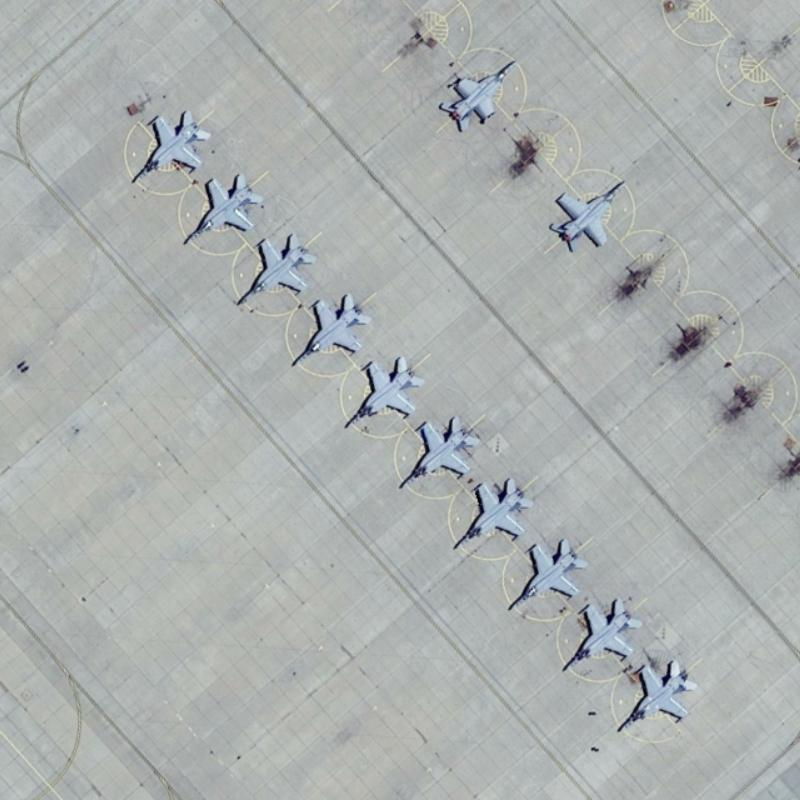A16: (286, 284, 377, 374), (608, 654, 702, 737), (221, 231, 320, 309), (555, 592, 644, 678), (336, 349, 430, 430), (436, 53, 525, 138), (172, 168, 268, 246), (125, 105, 214, 187), (502, 533, 592, 614), (393, 413, 481, 493), (447, 473, 534, 552), (542, 176, 630, 253)
